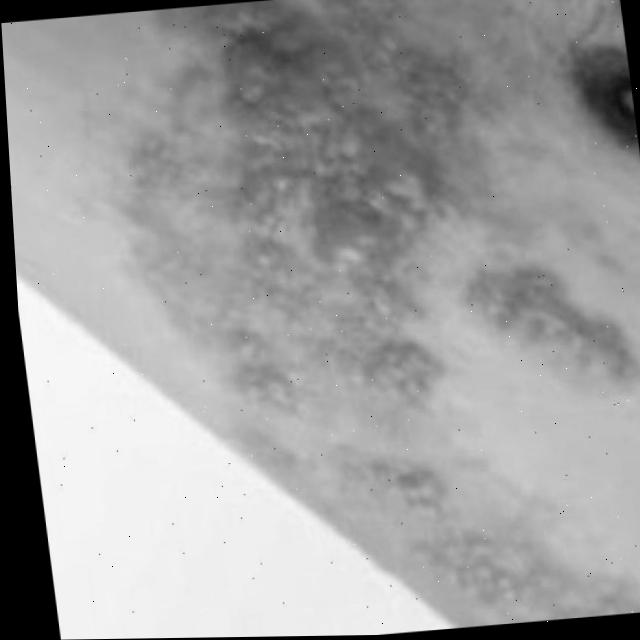Shingles: (110, 0, 640, 638)
